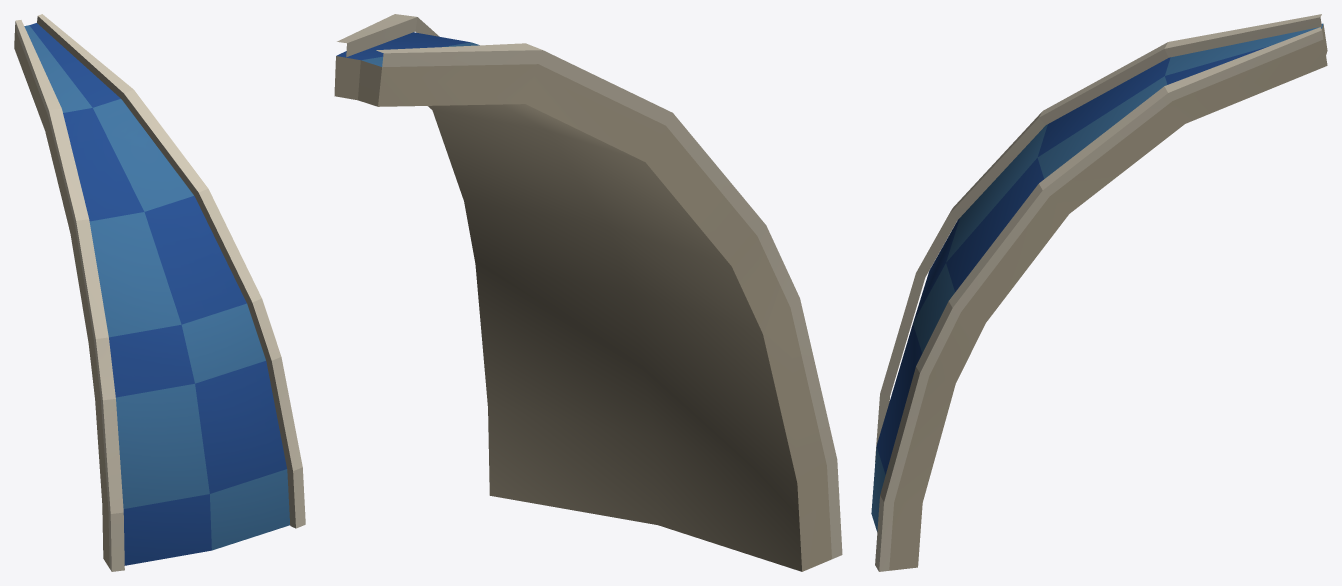
Rendered from dome.panel_12.blue.glb.
3 views of the same model, side by side, from view 1: azimuth 30°, elevation 25°; view 2: azimuth 150°, elevation 25°; view 3: azimuth 270°, elevation 25° (orthographic). The views are drawn at different scales.
Visible parts, largest first — view 1: dome_panel_12_blue; view 2: dome_panel_12_blue; view 3: dome_panel_12_blue.
Part boxes in pixels (box(x1,y1,x2,y2)): dome_panel_12_blue: box(14, 14, 305, 571); dome_panel_12_blue: box(334, 14, 842, 571); dome_panel_12_blue: box(871, 14, 1327, 571).
Size of what is drawn, in the model's own units: 1.85 by 3.63 by 3.06.
